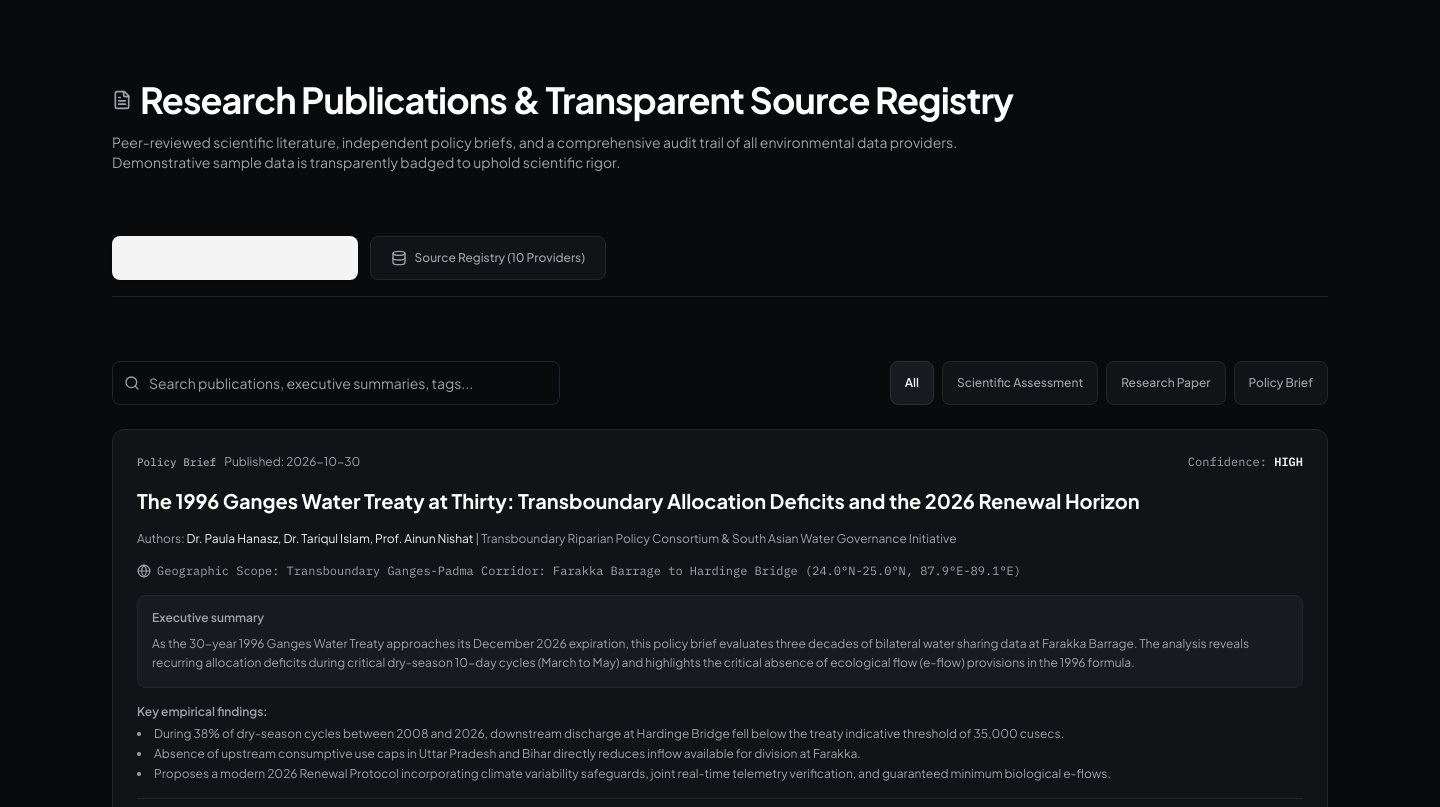
Test: Tier 2: Research & Reports Hub and Source Registry › filters publications by category button clicks
Click "Policy Brief"
Click the button "Policy Brief".
click(1281, 383)  # box [1234,361,1328,405]
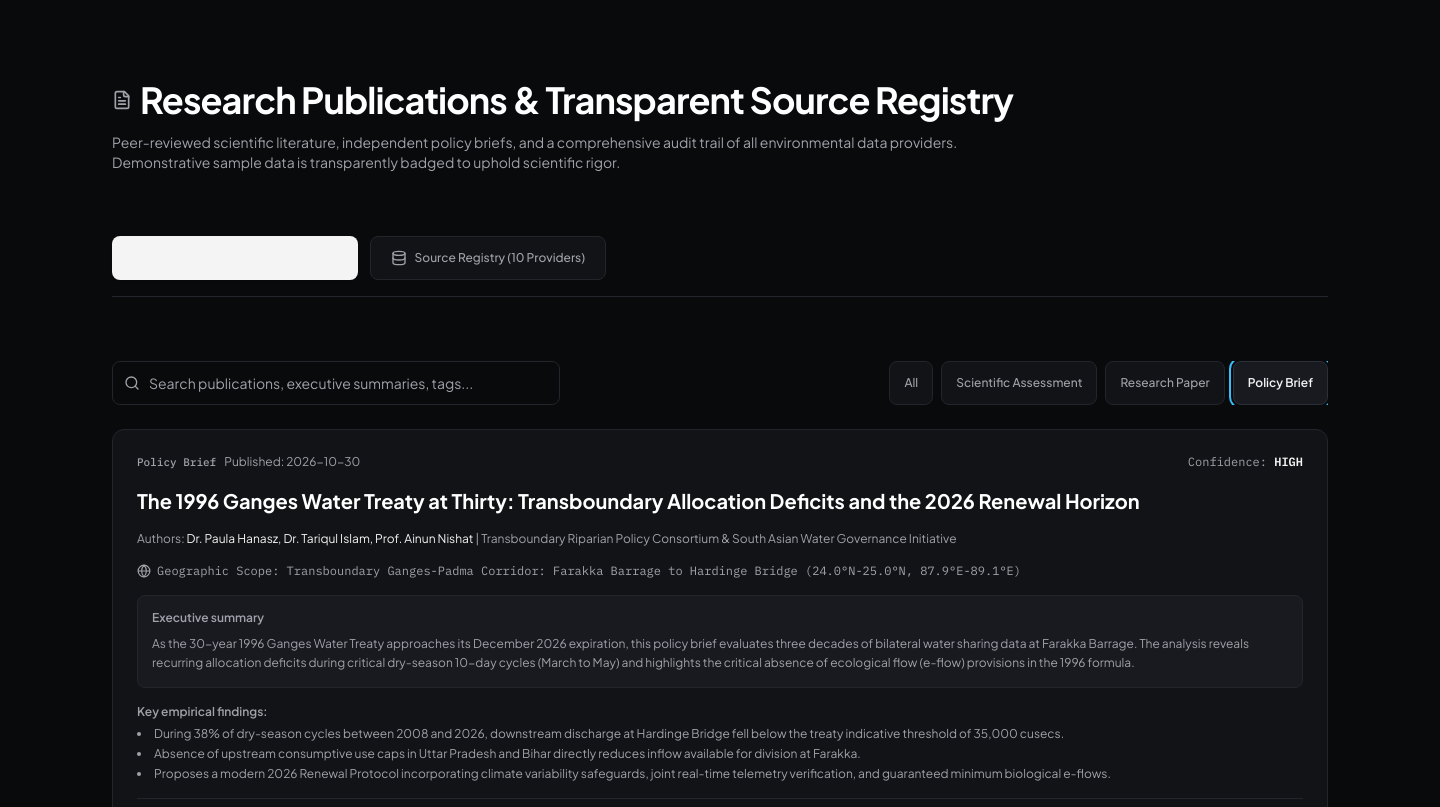
Click "Research Paper"
Click the button "Research Paper".
click(1165, 383)  # box [1105,361,1225,405]
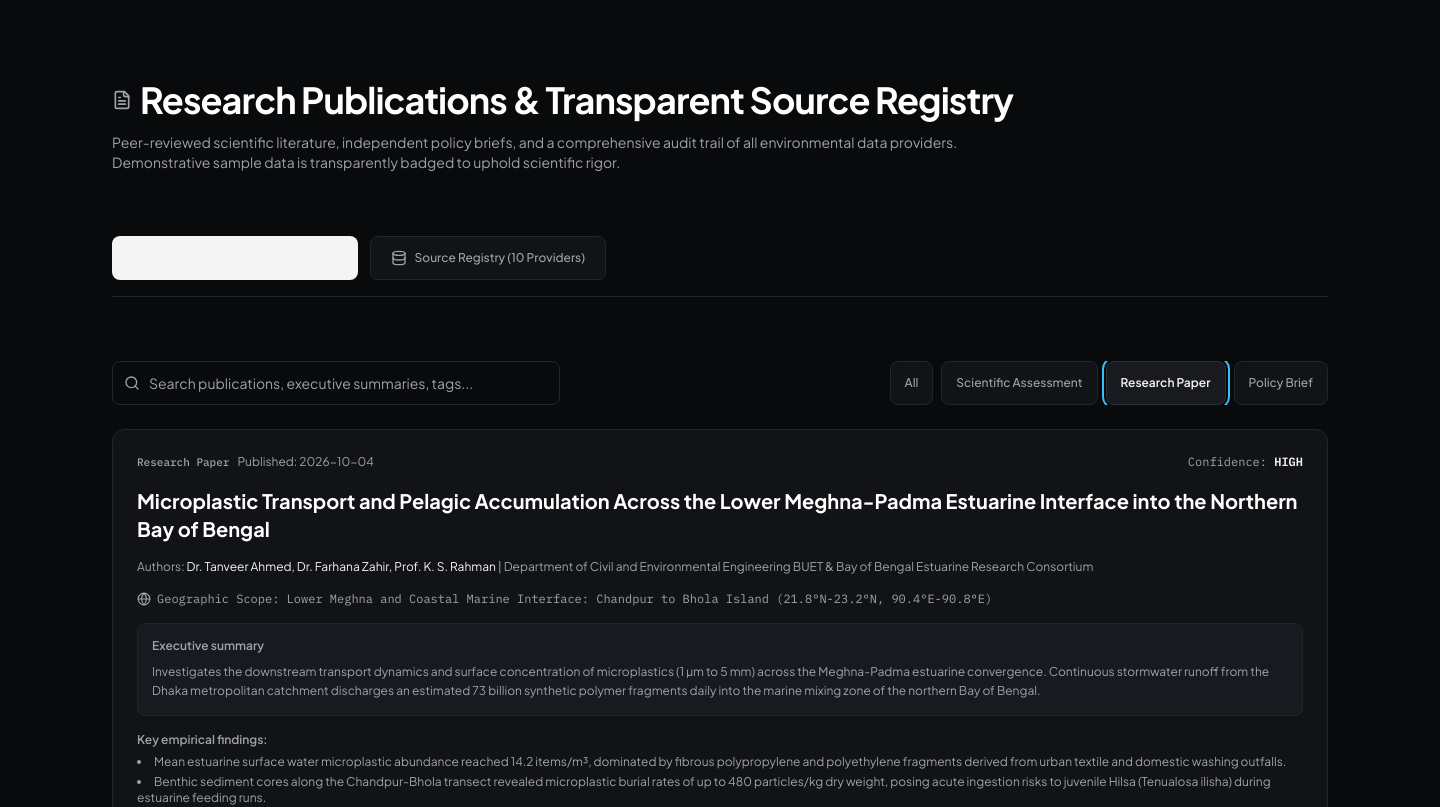
Expected: the text "Hydrological Disruption at Farakka" is not shown
Click "All"
Click the button "All".
click(912, 383)  # box [890,361,933,405]
(page scrolled)
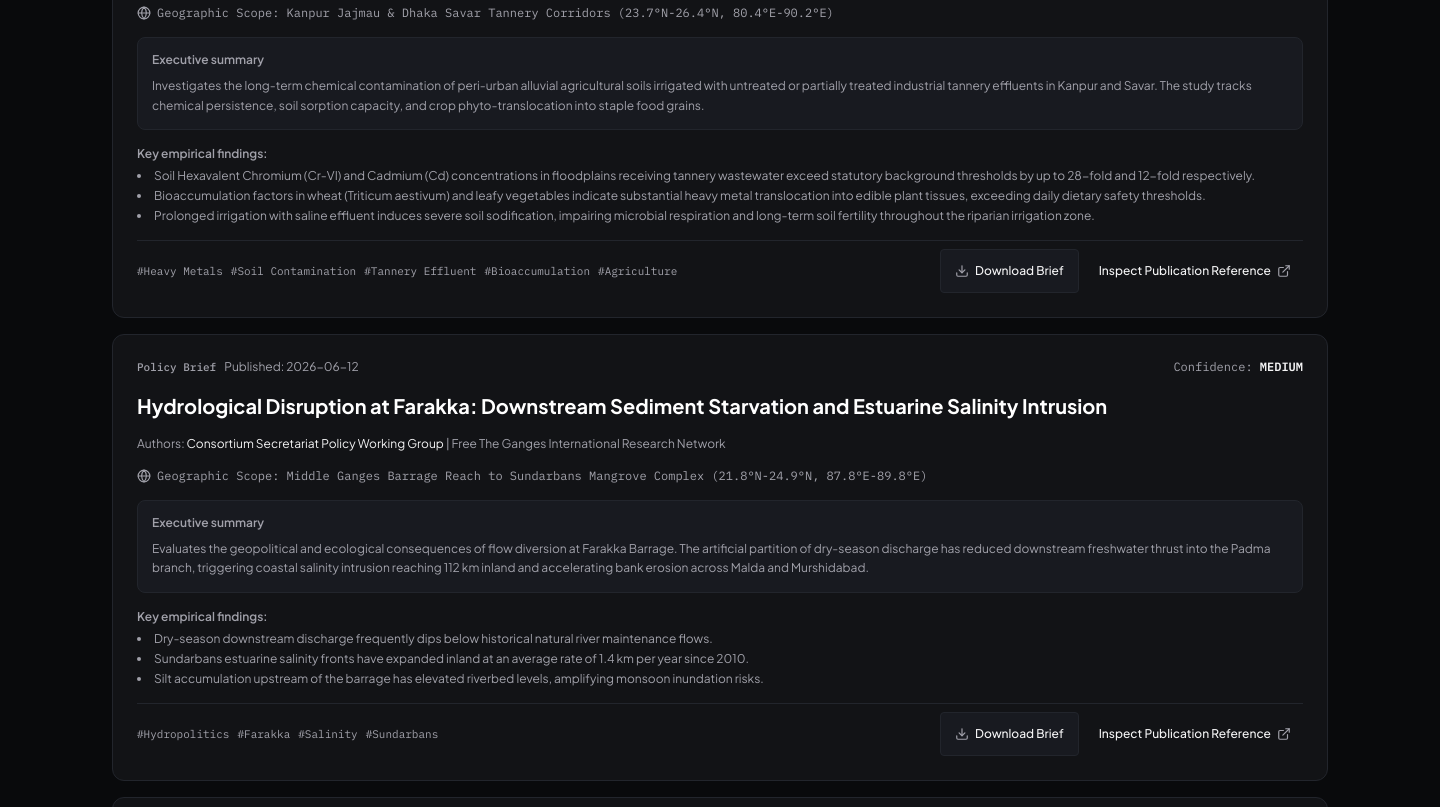
Expected: the heading "Hydrological Disruption at Farakka" is shown, [137,392,1107,418]
